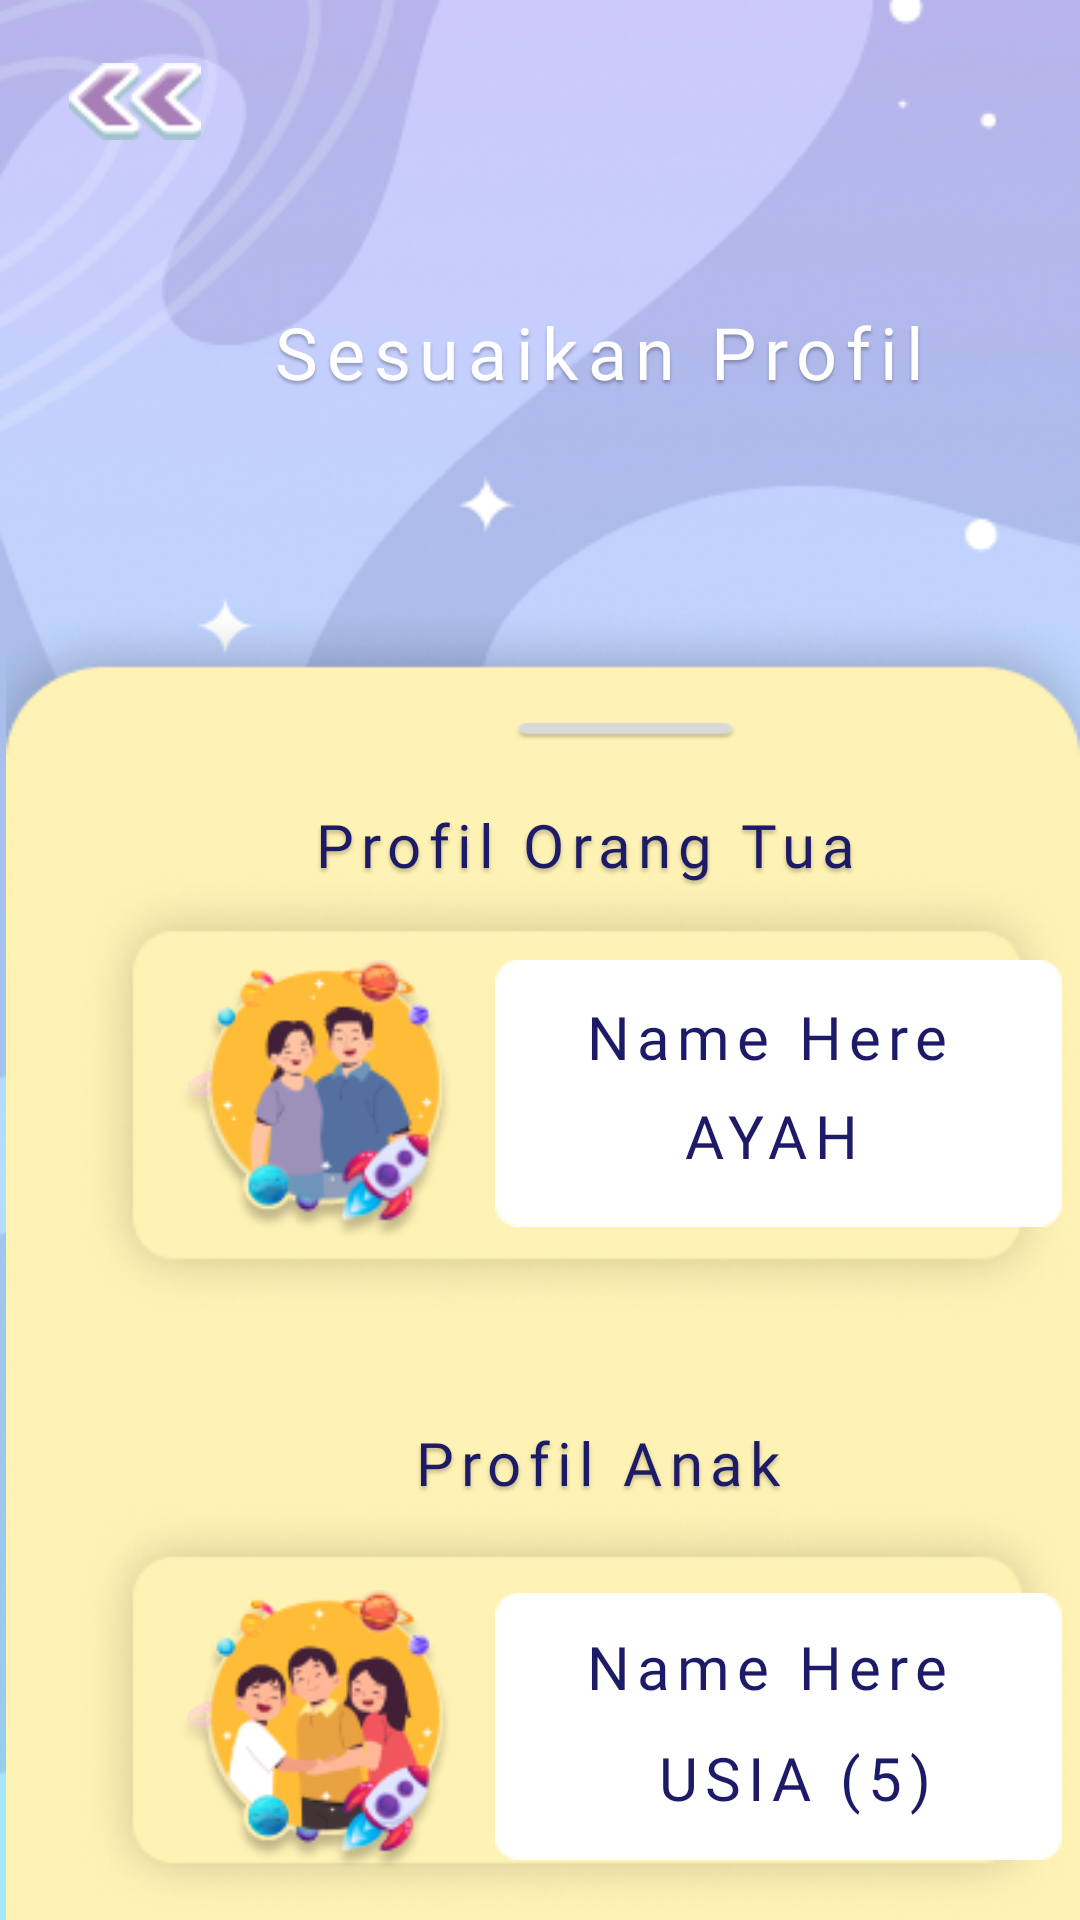

Named icons in this screenshot (1080 x 1920) and their bounding boxes, [left=x1, top=y1, right=x2, bottom=y2]:
arrow: [left=69, top=63, right=201, bottom=140]
kids: [left=191, top=1592, right=443, bottom=1868]
parent: [left=192, top=962, right=443, bottom=1231]
